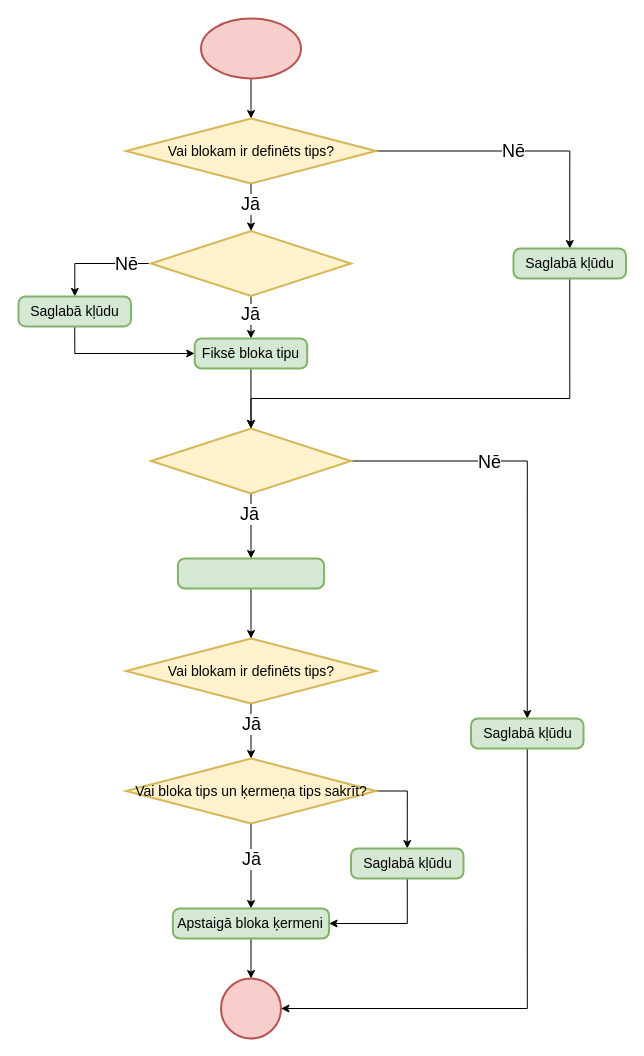
Some shapes in this 644 by 1056 pixel diagram are drawn without their labels. The shapes that lost their labels are listed below. From the top down, each one's box as (x1, y1, x2, y2) in pixels, then its label:
(200, 17, 302, 79): Sākums
(150, 230, 352, 296): Vai ir dots pareizs bloka tips?
(150, 427, 352, 494): Vai blokam ir definēts ķermenis?
(176, 557, 325, 589): Fiksējam ķermeņa tipu
(220, 977, 282, 1039): Beigas
